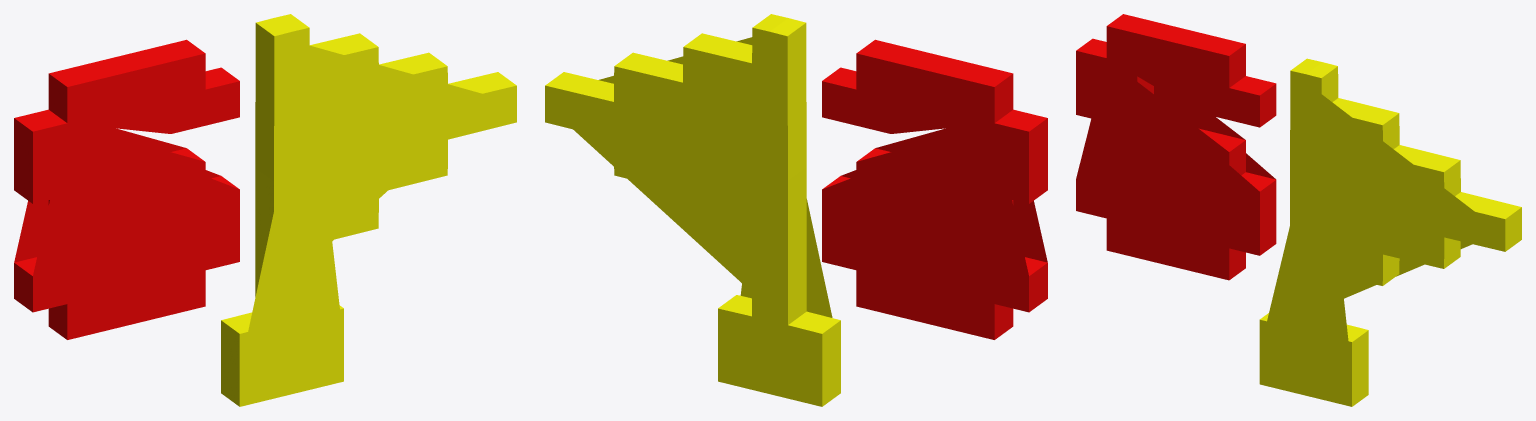
Rendered from SpecialFlag.fbx.
3 renders of one model, left to right at view 1: azimuth 30°, elevation 25°; view 2: azimuth 150°, elevation 25°; view 3: azimuth 330°, elevation 25°, orthographic. The views are drawn at different scales.
Visible parts, largest first — view 1: Flag, S; view 2: Flag, S; view 3: Flag, S.
Boxes of the visible parts, x1=… form: Flag: x1=221, y1=14, x2=516, y2=406; S: x1=14, y1=39, x2=239, y2=339; Flag: x1=545, y1=14, x2=840, y2=406; S: x1=822, y1=39, x2=1047, y2=339; Flag: x1=1259, y1=58, x2=1521, y2=406; S: x1=1076, y1=14, x2=1276, y2=280.
Size of the model in its own units: 448 by 321 by 30.
